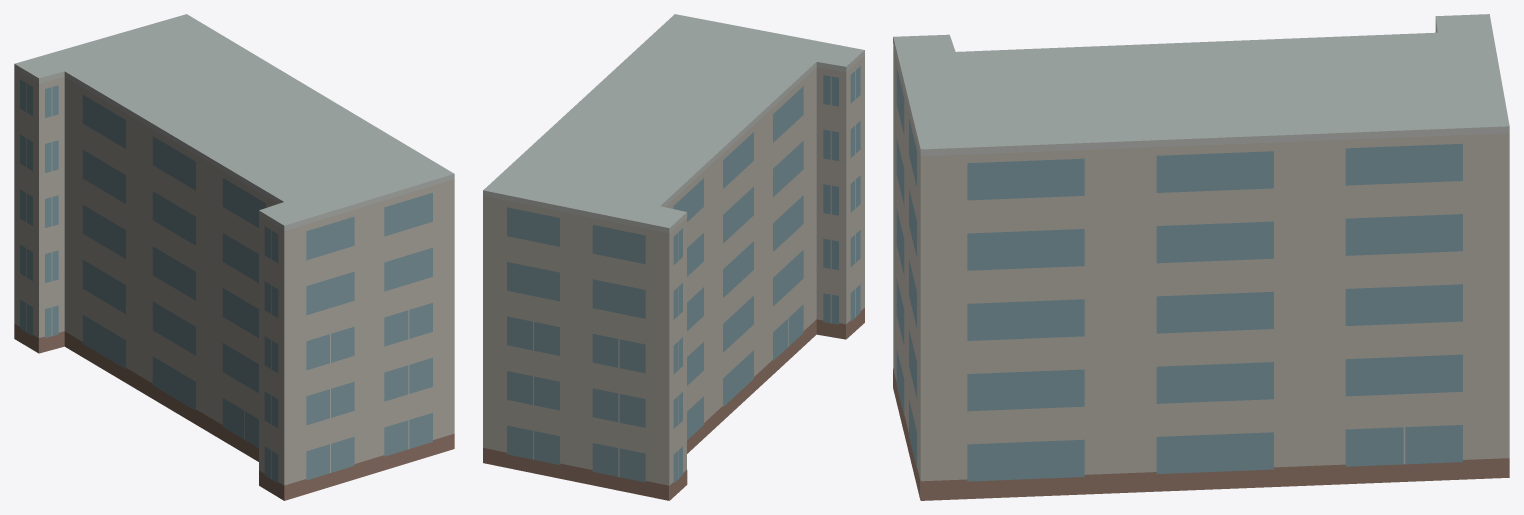
The model's file is survey-upis-32637192.glb.
3 renders of one model, left to right at view 1: azimuth 30°, elevation 25°; view 2: azimuth 150°, elevation 25°; view 3: azimuth 270°, elevation 25°, orthographic. The views are drawn at different scales.
Parts seen in each view (by area): view 1: survey-upis-32637192.tmp; view 2: survey-upis-32637192.tmp; view 3: survey-upis-32637192.tmp.
Boxes of the visible parts, x1=… form: survey-upis-32637192.tmp: x1=14, y1=14, x2=454, y2=500; survey-upis-32637192.tmp: x1=483, y1=14, x2=864, y2=500; survey-upis-32637192.tmp: x1=893, y1=14, x2=1509, y2=500.
Size of the model in its own units: 10.43 by 12.6 by 20.04.
